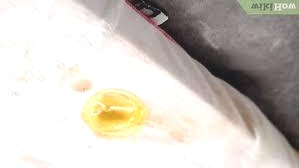oil: (81, 91, 153, 133), (142, 118, 197, 137), (68, 75, 97, 101), (53, 63, 79, 78)
